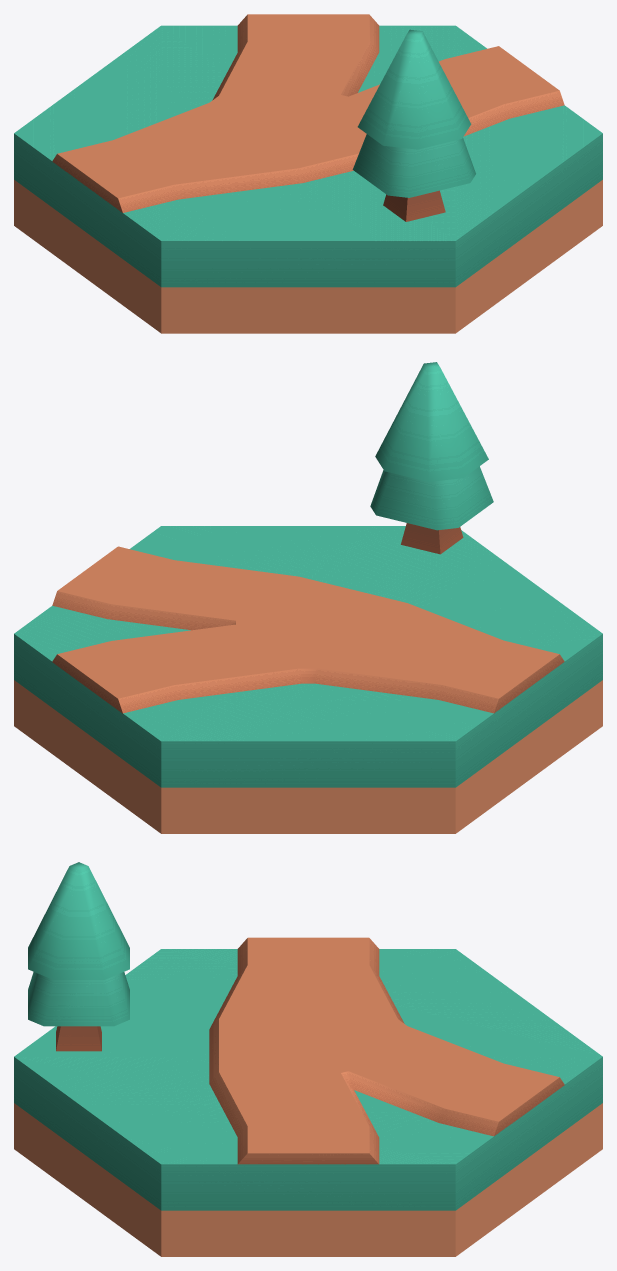
Rendered from grass-path-intersectionB-tree.glb.
The picture shows the model from 3 angles, top to bottom: view 1: azimuth 30°, elevation 25°; view 2: azimuth 150°, elevation 25°; view 3: azimuth 270°, elevation 25°; orthographic projection.
Parts seen in each view (by area): view 1: grass, path-intersectionB, unit-tree; view 2: grass, path-intersectionB, unit-tree; view 3: grass, path-intersectionB, unit-tree.
Boxes of the visible parts, x1,y1,x2,y2 form: grass: (14,25,602,333); path-intersectionB: (52,14,564,212); unit-tree: (352,29,475,221); grass: (14,526,602,833); path-intersectionB: (52,546,564,713); unit-tree: (370,362,493,554); grass: (14,949,602,1256); path-intersectionB: (209,937,564,1164); unit-tree: (28,862,129,1051).
Size of the model in its own units: 1 by 0.603 by 1.15.
Materials: 1 (1 with a texture image).
